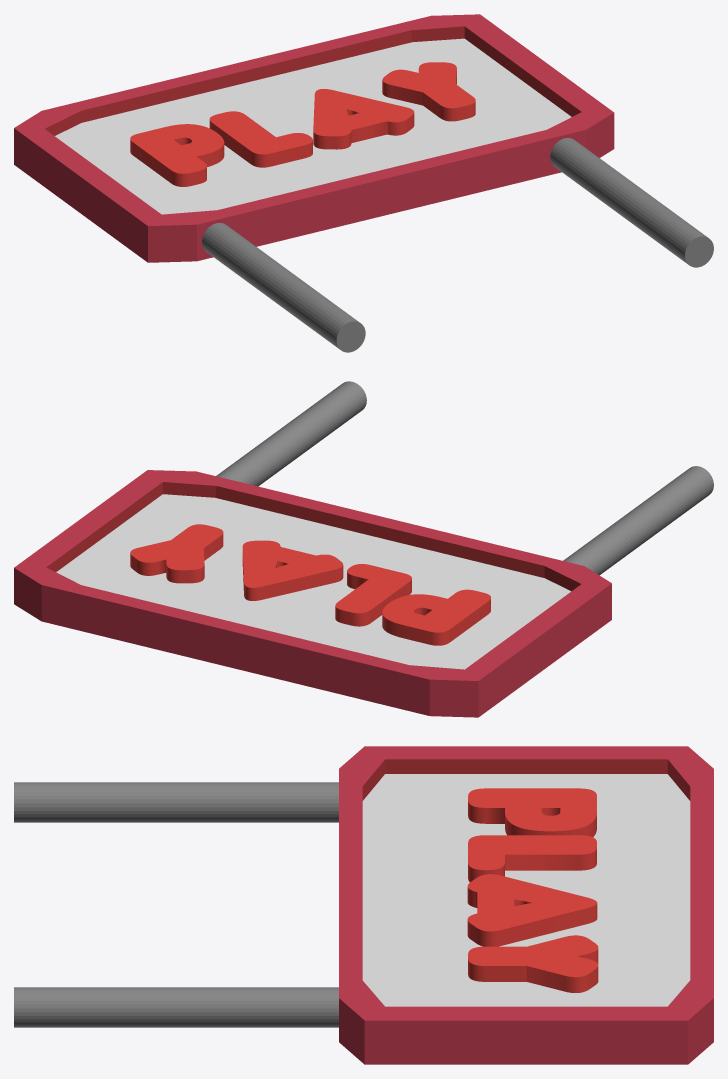
Rendered from play sign.fbx.
3 views of the same model, one above another, from view 1: azimuth 30°, elevation 25°; view 2: azimuth 150°, elevation 25°; view 3: azimuth 270°, elevation 25° (orthographic). The views are drawn at different scales.
Visible parts, largest first — view 1: Plane.001, Text.001, Cylinder.001; view 2: Plane.001, Text.001, Cylinder.001; view 3: Plane.001, Cylinder.001, Text.001.
Boxes of the visible parts, x1=… form: Plane.001: x1=14, y1=14, x2=614, y2=262; Text.001: x1=130, y1=62, x2=475, y2=186; Cylinder.001: x1=202, y1=138, x2=713, y2=352; Plane.001: x1=14, y1=470, x2=611, y2=717; Text.001: x1=130, y1=524, x2=490, y2=645; Cylinder.001: x1=216, y1=381, x2=713, y2=575; Plane.001: x1=339, y1=746, x2=713, y2=1064; Cylinder.001: x1=14, y1=782, x2=338, y2=1027; Text.001: x1=467, y1=788, x2=598, y2=992.
Size of the model in its own units: 422 by 32.49 by 455.
